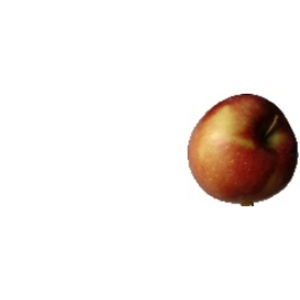maçã braeburn: (185, 89, 299, 209)
